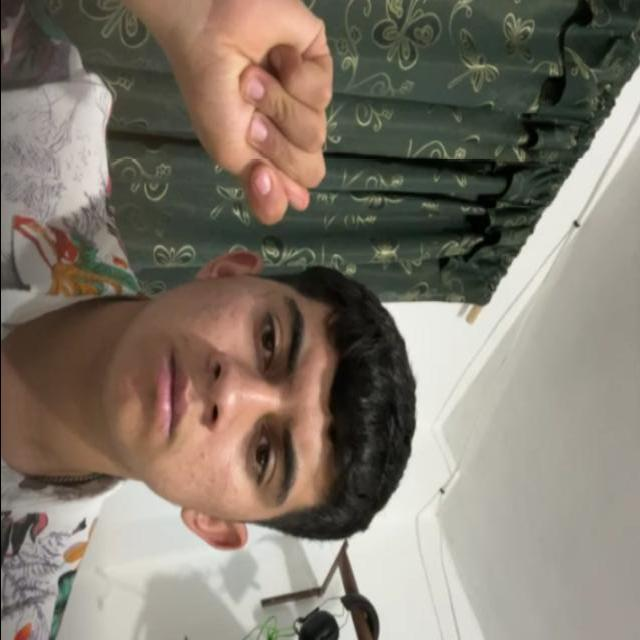T: (146, 0, 354, 244)
